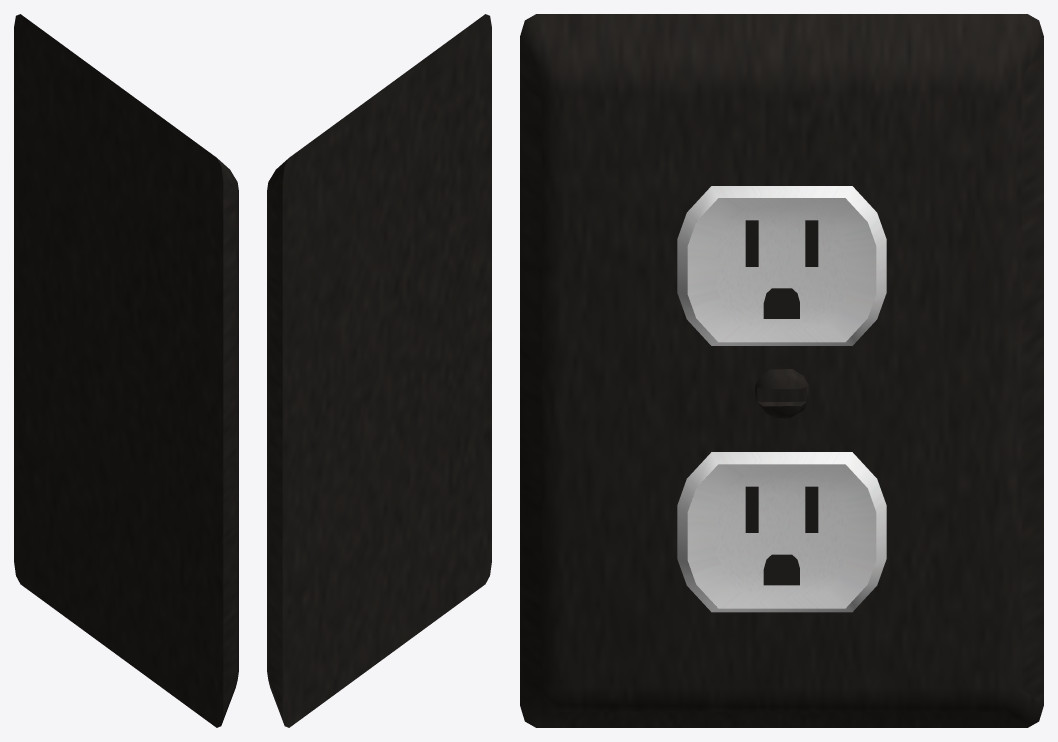
The model's file is Plug Black.fbx.
3 renders of one model, left to right at view 1: azimuth 30°, elevation 25°; view 2: azimuth 150°, elevation 25°; view 3: azimuth 270°, elevation 25°, orthographic. The views are drawn at different scales.
Visible parts, largest first — view 1: Plug Black; view 2: Plug Black; view 3: Plug Black.
Boxes of the visible parts, x1=… form: Plug Black: x1=14, y1=14, x2=238, y2=727; Plug Black: x1=267, y1=14, x2=491, y2=727; Plug Black: x1=520, y1=14, x2=1043, y2=727.
Size of the model in its own units: 1.13 by 15.93 by 10.59.
